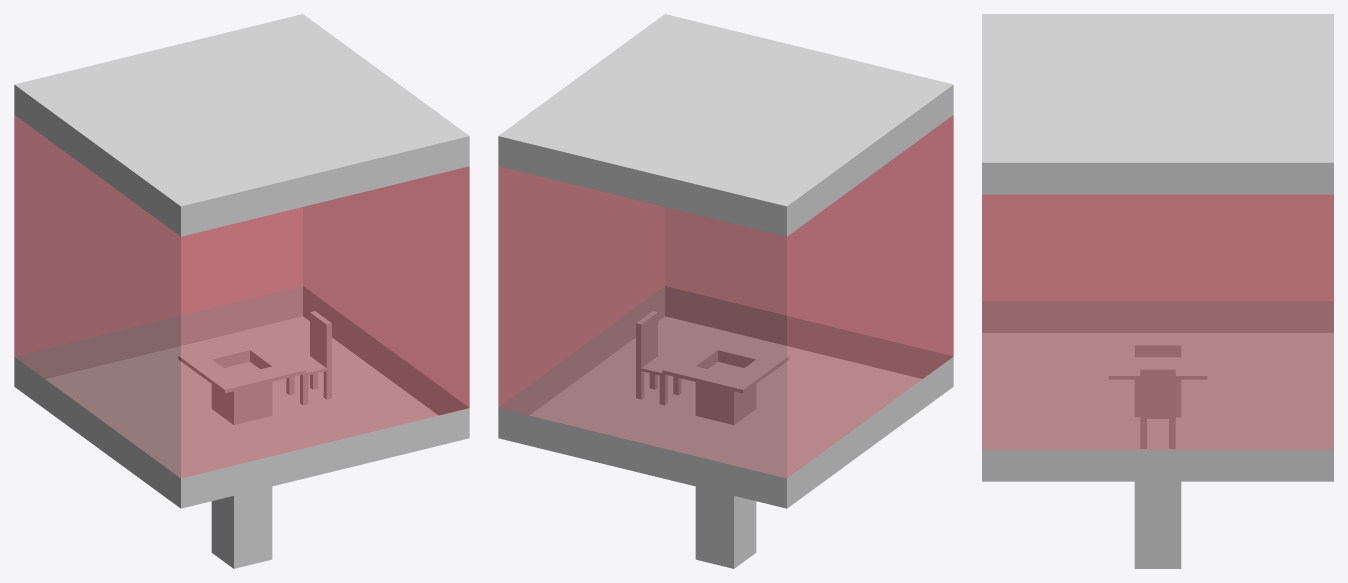
The model's file is OneManAndOneChairScene.fbx.
3 views of the same model, side by side, from view 1: azimuth 30°, elevation 25°; view 2: azimuth 150°, elevation 25°; view 3: azimuth 270°, elevation 25° (orthographic). The views are drawn at different scales.
Visible parts, largest first — view 1: Box, Table, Chair; view 2: Box, Table, Chair; view 3: Box, Table, Chair.
Boxes of the visible parts, <box> form: Box: <box>14,14,469,508</box>; Table: <box>178,336,305,568</box>; Chair: <box>286,311,331,405</box>; Box: <box>498,14,953,508</box>; Table: <box>662,336,789,568</box>; Chair: <box>636,311,681,405</box>; Box: <box>982,14,1333,481</box>; Table: <box>1108,334,1207,568</box>; Chair: <box>1140,367,1175,448</box>.
Bounding box in the file's own units: 2500 × 3689 × 2500.
